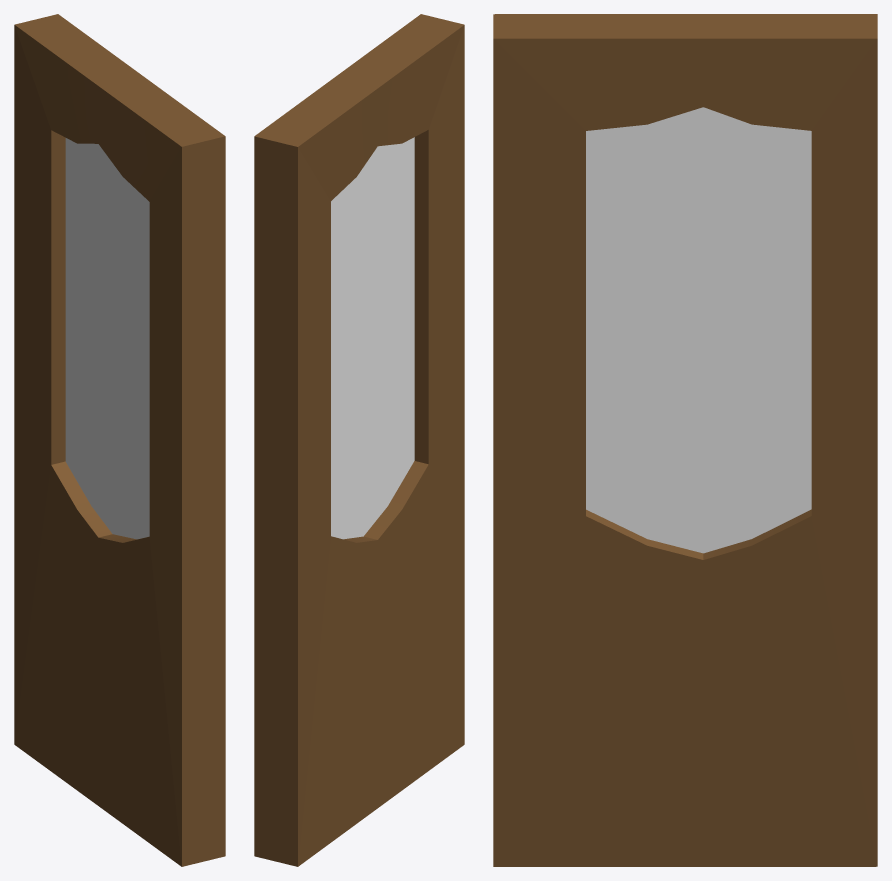
The model's file is Mesh_Aufzug_tür_hälfte.fbx.
3 views of the same model, side by side, from view 1: azimuth 30°, elevation 25°; view 2: azimuth 150°, elevation 25°; view 3: azimuth 270°, elevation 25° (orthographic). The views are drawn at different scales.
Visible parts, largest first — view 1: Aufzug_tür1; view 2: Aufzug_tür1; view 3: Aufzug_tür1.
Boxes of the visible parts, bbox=[...] form: Aufzug_tür1: bbox=[14, 14, 225, 866]; Aufzug_tür1: bbox=[254, 14, 464, 866]; Aufzug_tür1: bbox=[493, 14, 877, 866].
Size of the model in its own units: 0.1307 by 2.01 by 0.8461.
